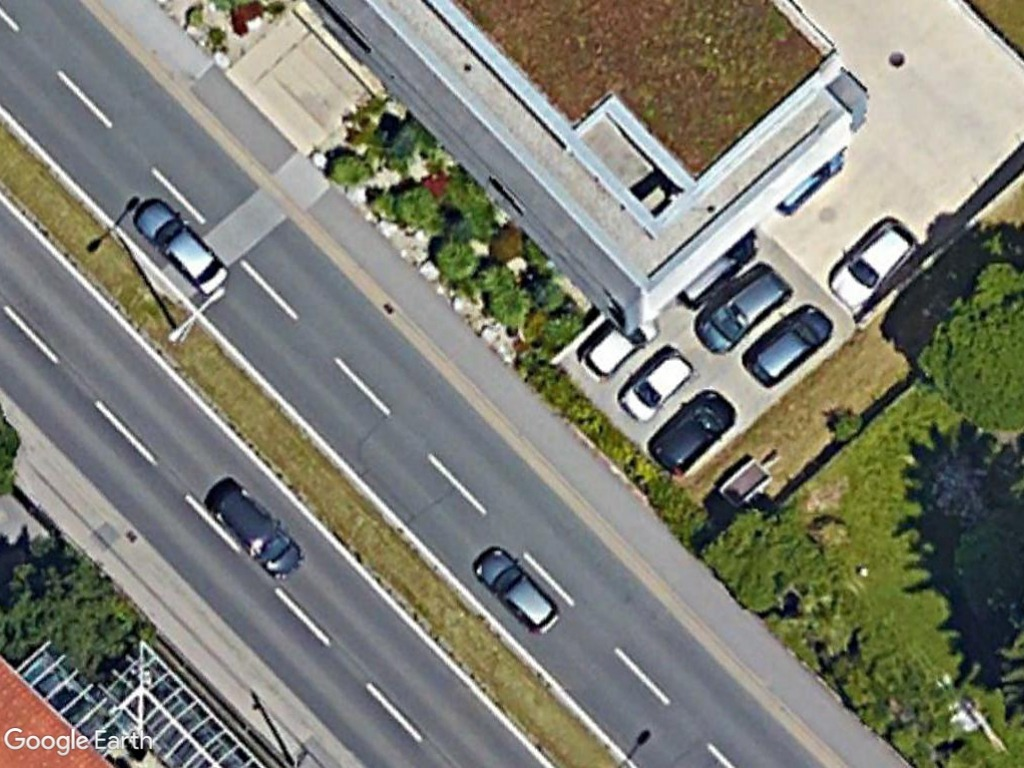car: (127, 191, 233, 302), (823, 213, 924, 319), (690, 262, 796, 357), (205, 483, 303, 584), (468, 540, 565, 639), (640, 384, 738, 478), (739, 302, 835, 389), (614, 346, 698, 430)
